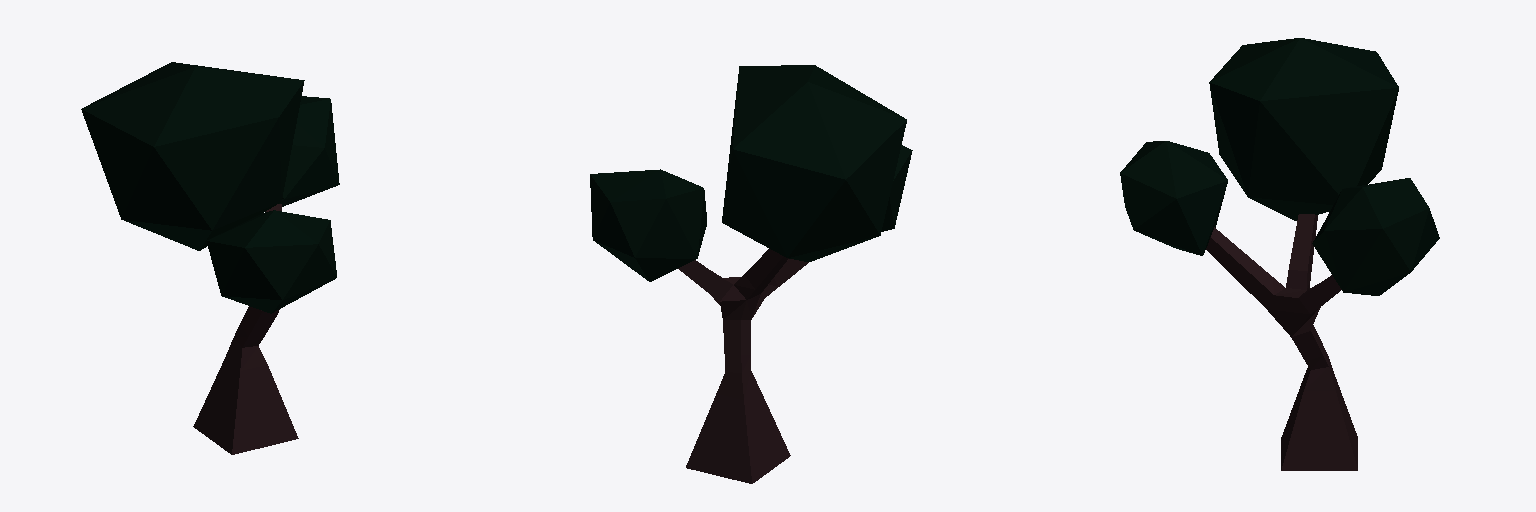
The model's file is dtree4A(F197).obj.
3 renders of one model, left to right at view 1: azimuth 30°, elevation 25°; view 2: azimuth 150°, elevation 25°; view 3: azimuth 270°, elevation 25°, orthographic.
Parts seen in each view (by area): view 1: Icosphere.021, Icosphere.025, Cube.006, Icosphere.020; view 2: Icosphere.021, Cube.006, Icosphere.020, Icosphere.025; view 3: Icosphere.021, Cube.006, Icosphere.020, Icosphere.025.
Boxes of the visible parts, box(x1,y1,x2,y2) form: Icosphere.021: box(81, 62, 304, 250); Icosphere.025: box(207, 210, 336, 313); Cube.006: box(193, 204, 298, 454); Icosphere.020: box(279, 96, 339, 206); Icosphere.021: box(722, 65, 906, 261); Cube.006: box(678, 249, 808, 483); Icosphere.020: box(590, 169, 706, 281); Icosphere.025: box(881, 145, 912, 231); Icosphere.021: box(1209, 38, 1398, 220); Cube.006: box(1206, 214, 1357, 470); Icosphere.020: box(1312, 178, 1439, 295); Icosphere.025: box(1120, 141, 1227, 255).
Size of the model in its own units: 1.5 by 2.2 by 1.65.